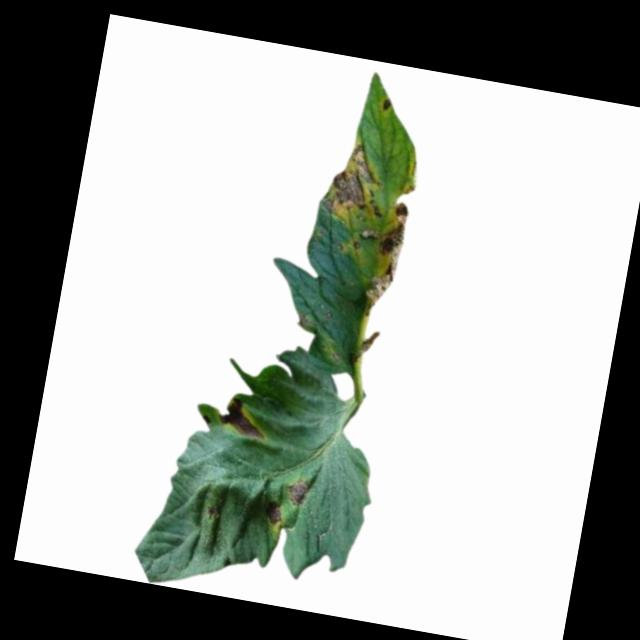Early_blight: (358, 181, 414, 316), (316, 137, 388, 222), (216, 398, 269, 445), (286, 480, 311, 504), (268, 506, 285, 527), (380, 96, 395, 117)
